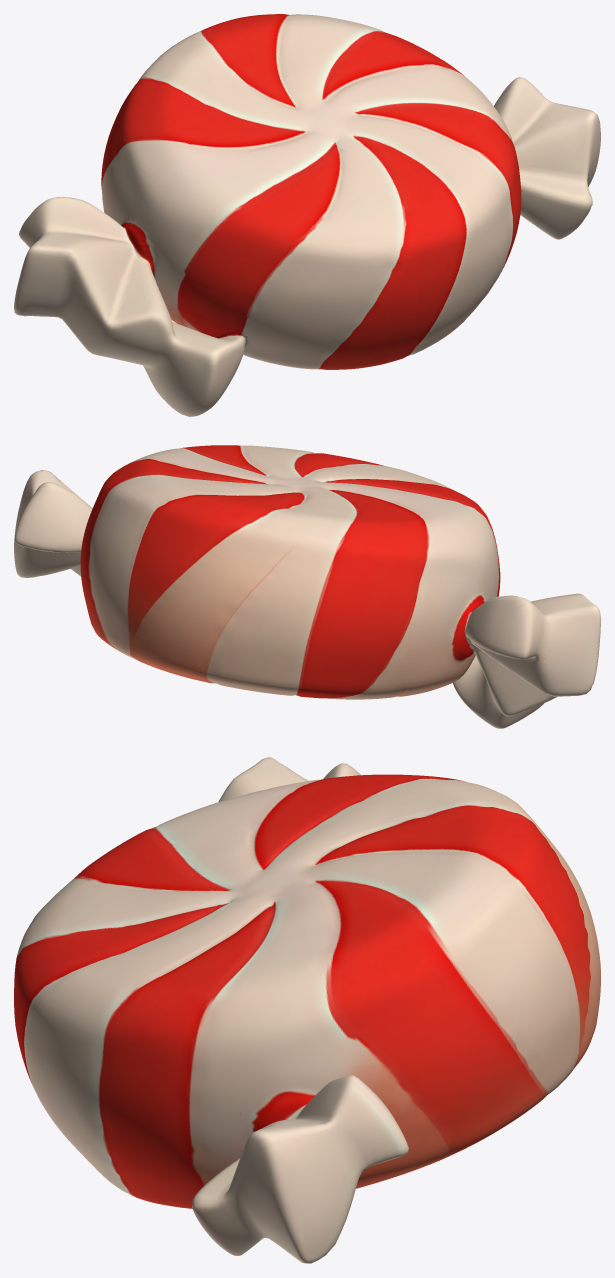
File: tripo_convert_788ee80a-0ea5-4053-b3b7-be27fcc27bbb.fbx
3 renders of one model, top to bottom at view 1: azimuth 30°, elevation 25°; view 2: azimuth 150°, elevation 25°; view 3: azimuth 270°, elevation 25°, orthographic. The views are drawn at different scales.
Visible parts, largest first — view 1: tripo_node_788ee80a; view 2: tripo_node_788ee80a; view 3: tripo_node_788ee80a.
Boxes of the visible parts, x1,y1,x2,y2 form: tripo_node_788ee80a: [14, 14, 600, 416]; tripo_node_788ee80a: [14, 445, 600, 728]; tripo_node_788ee80a: [14, 757, 600, 1263].
Bounding box in the file's own units: 97.94 × 62.11 × 40.58.
1 material, 1 textured.
